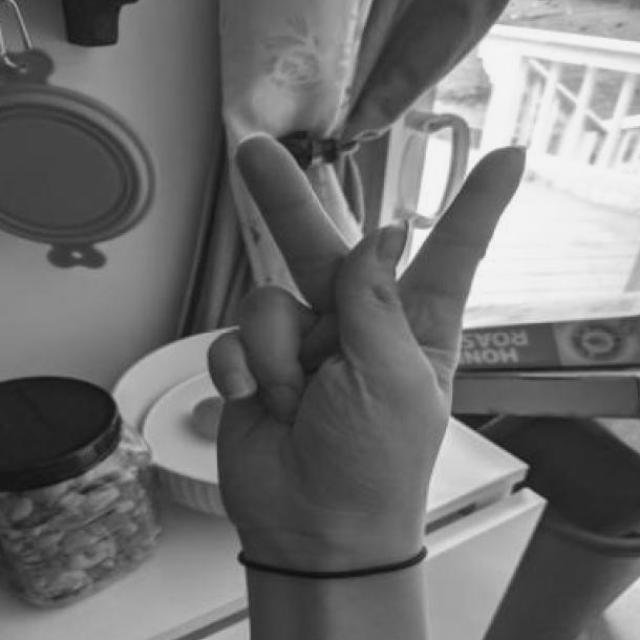K: (200, 118, 533, 581)
